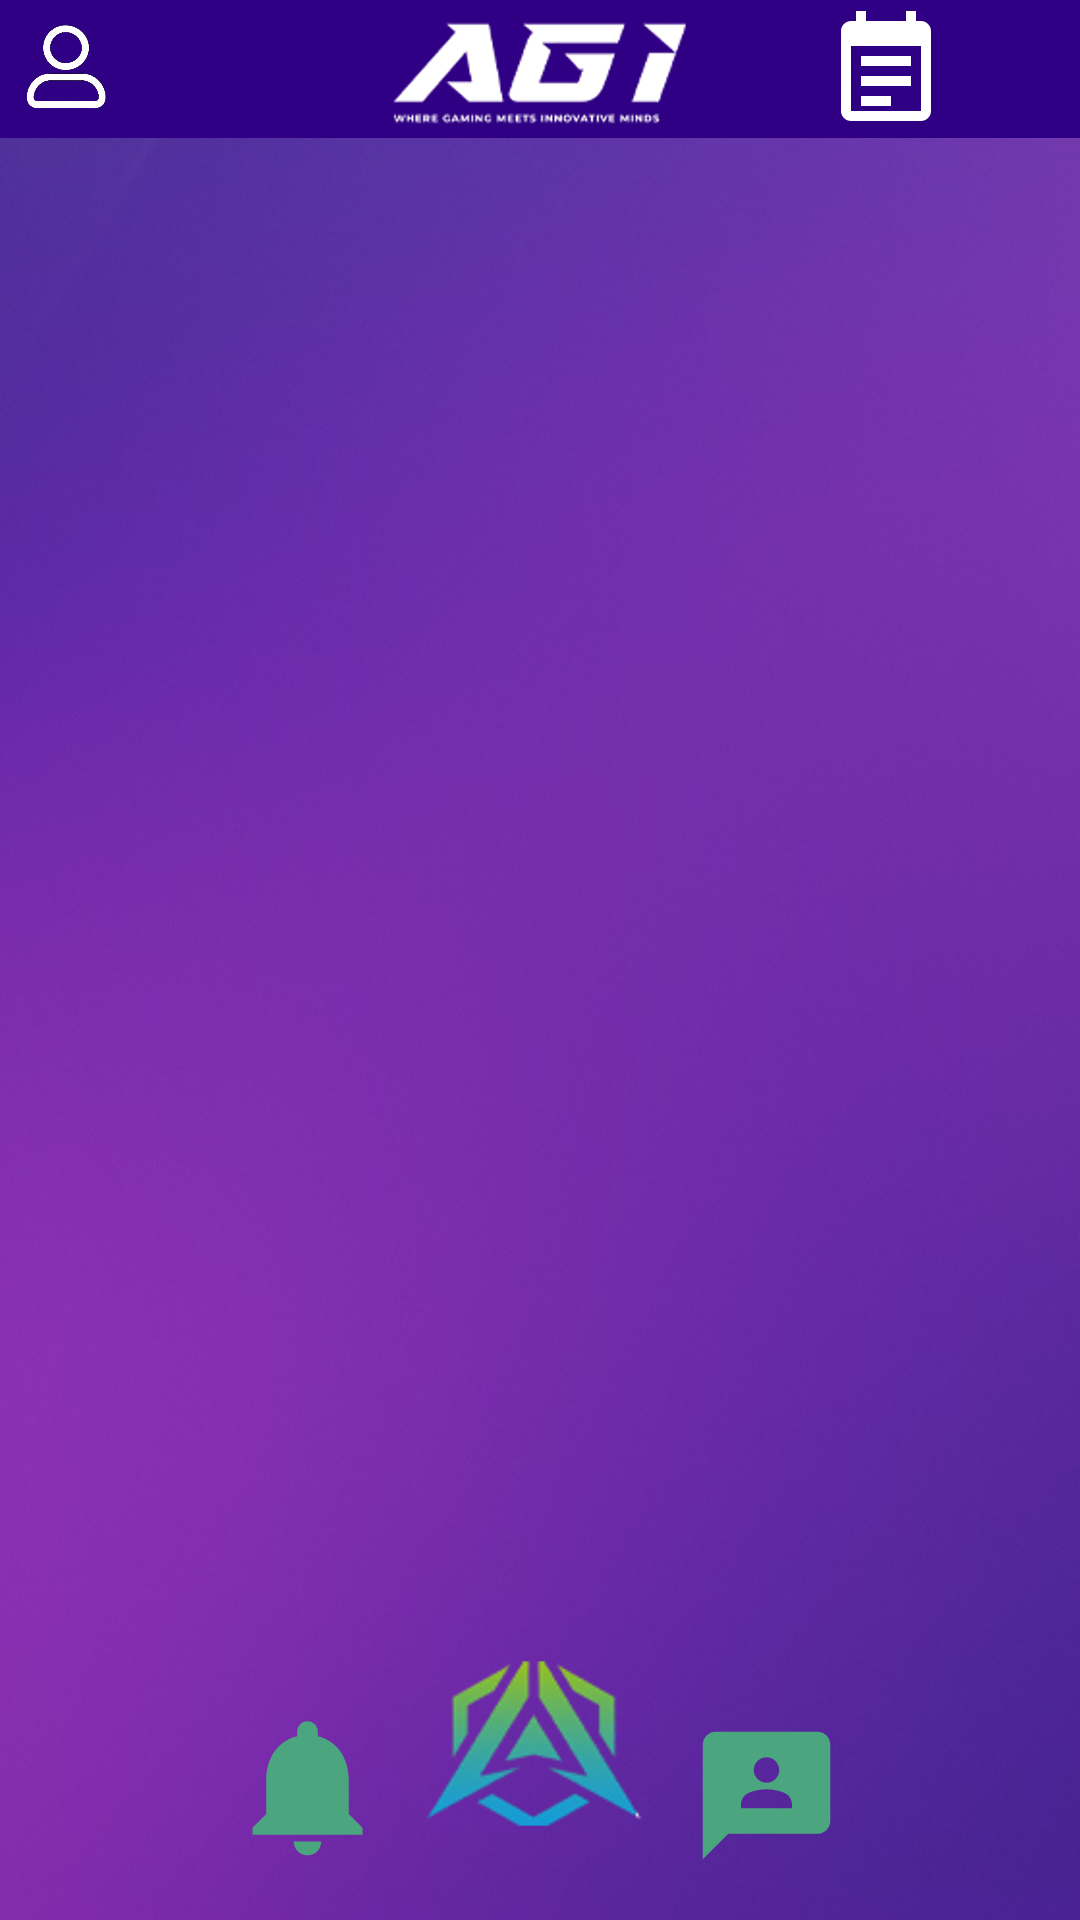

Where to tap for icons on this 1080x1920 app screen, as (x,y):
agenda: (886,66)
directicon: (766,1795)
notifications: (307,1788)
profileicon: (66,66)
